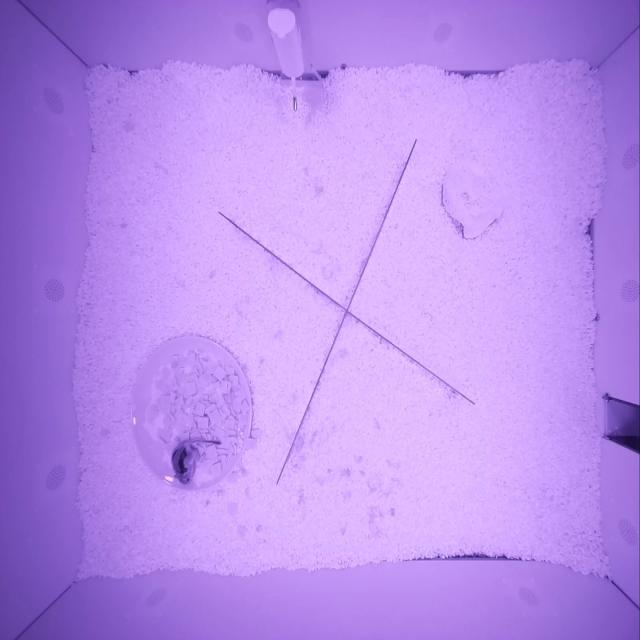pup_v_stripe: (170, 440, 200, 485)
